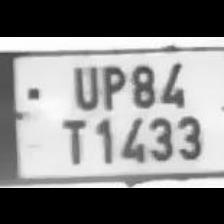1: (88, 113, 116, 165)
3: (145, 110, 175, 162), (174, 110, 204, 160)
4: (156, 54, 190, 106), (117, 110, 147, 162)
8: (126, 57, 156, 106)
P: (97, 59, 127, 109)
T: (55, 113, 91, 165)
U: (66, 60, 100, 108)
